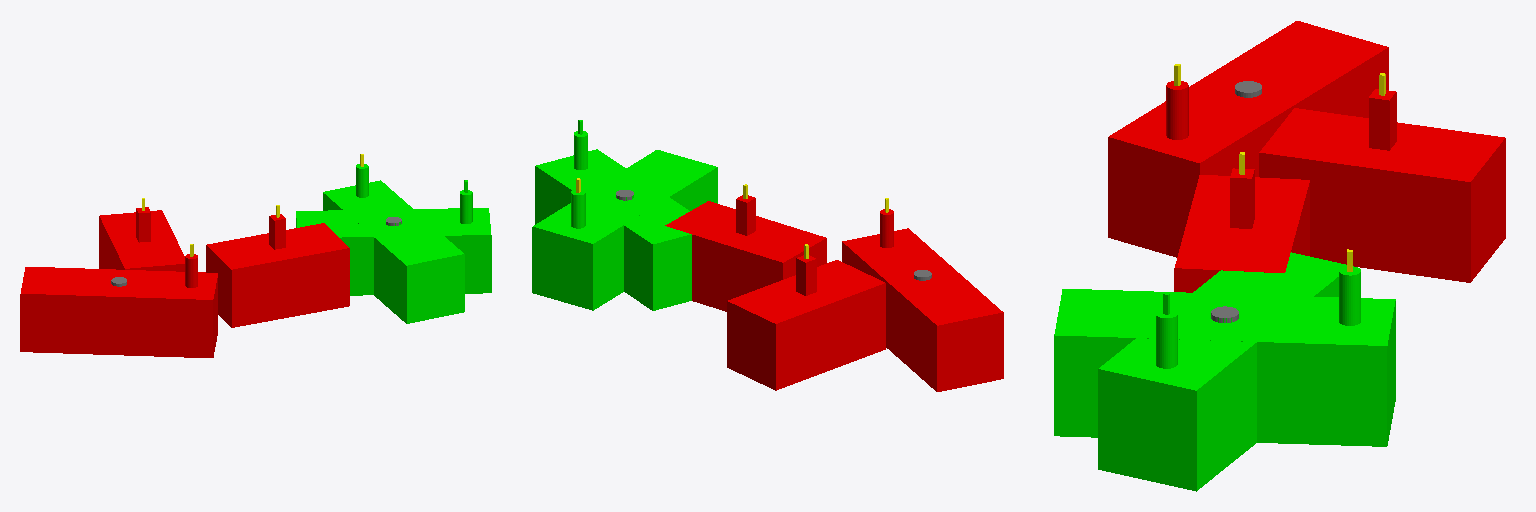
robot.urdf — continuous_space3:
<?xml version="1.0"?>
<!-- created with Phobos 1.0.1 "Capricious Choutengan" -->
  <robot name="continuous_space3">

    <link name="base_link">
    </link>

    <link name="goal">
      <visual name="visual_box_0_link_0.001">
        <origin xyz="0 0 0" rpy="0 0 0"/>
        <geometry>
          <box size="2.996 0.998 0.998"/>
        </geometry>
        <material name="green_translucent"/>
      </visual>
    </link>

    <link name="link_0_joint_0">
      <visual name="visual_box_0_link_0">
        <origin xyz="0 0 0" rpy="0 0 0"/>
        <geometry>
          <box size="2.999 0.999 0.999"/>
        </geometry>
        <material name="green"/>
      </visual>
      <collision name="collision_box_0_link_0">
        <origin xyz="0 0 0" rpy="0 0 0"/>
        <geometry>
          <box size="2.999 0.999 0.999"/>
        </geometry>
      </collision>
    </link>

    <link name="link_1_joint_0">
      <visual name="visual_box_11_link_1">
        <origin xyz="0 0 0" rpy="0 0 0"/>
        <geometry>
          <box size="1.999 0.999 0.999"/>
        </geometry>
        <material name="red"/>
      </visual>
      <collision name="collision_box_11_link_1">
        <origin xyz="0 0 0" rpy="0 0 0"/>
        <geometry>
          <box size="1.999 0.999 0.999"/>
        </geometry>
      </collision>
    </link>

    <link name="link_2_joint_0">
      <visual name="visual_box_33_link_2">
        <origin xyz="0 0 0" rpy="0 0 0"/>
        <geometry>
          <box size="2.999 0.999 0.999"/>
        </geometry>
        <material name="red"/>
      </visual>
      <collision name="collision_box_33_link_2">
        <origin xyz="0 0 0" rpy="0 0 0"/>
        <geometry>
          <box size="2.999 0.999 0.999"/>
        </geometry>
      </collision>
    </link>

    <link name="link_3_joint_0">
      <visual name="visual_box_52_link_3">
        <origin xyz="0 0 0" rpy="0 0 0"/>
        <geometry>
          <box size="1.999 0.999 0.999"/>
        </geometry>
        <material name="red"/>
      </visual>
      <collision name="collision_box_52_link_3">
        <origin xyz="0 0 0" rpy="0 0 0"/>
        <geometry>
          <box size="1.999 0.999 0.999"/>
        </geometry>
      </collision>
    </link>

    <link name="link_fixed_12_handle_shaft">
      <visual name="visual_box_fixed_12_handle_shaft">
        <origin xyz="0 0 0" rpy="0 0 0"/>
        <geometry>
          <box size="0.199 0.199 0.499"/>
        </geometry>
        <material name="red"/>
      </visual>
      <collision name="collision_box_fixed_12_handle_shaft">
        <origin xyz="0 0 0" rpy="0 0 0"/>
        <geometry>
          <box size="0.199 0.199 0.499"/>
        </geometry>
      </collision>
    </link>

    <link name="link_fixed_13_handle_knob">
      <visual name="visual_box_fixed_13_handle_knob">
        <origin xyz="0 0 0" rpy="0 0 0"/>
        <geometry>
          <box size="0.049 0.049 0.199"/>
        </geometry>
        <material name="yellow"/>
      </visual>
      <collision name="collision_box_fixed_13_handle_knob">
        <origin xyz="0 0 0" rpy="0 0 0"/>
        <geometry>
          <box size="0.049 0.049 0.199"/>
        </geometry>
      </collision>
    </link>

    <link name="link_fixed_1_hinge">
      <visual name="visual_cylinder_fixed_1_hinge">
        <origin xyz="0 0 0" rpy="0 0 0"/>
        <geometry>
          <cylinder radius="0.1245" length="1.099"/>
        </geometry>
        <material name="gray"/>
      </visual>
    </link>

    <link name="link_fixed_1_hinge.001">
      <visual name="visual_cylinder_fixed_1_hinge.001">
        <origin xyz="0 0 0" rpy="0 0 0"/>
        <geometry>
          <cylinder radius="0.12438" length="1.0979"/>
        </geometry>
        <material name="green_translucent"/>
      </visual>
    </link>

    <link name="link_fixed_2_handle_shaft">
      <visual name="visual_cylinder_fixed_2_handle_shaft">
        <origin xyz="0 0 0" rpy="0 0 0"/>
        <geometry>
          <cylinder radius="0.0995" length="0.499"/>
        </geometry>
        <material name="green"/>
      </visual>
      <collision name="collision_cylinder_fixed_2_handle_shaft">
        <origin xyz="0 0 0" rpy="0 0 0"/>
        <geometry>
          <cylinder radius="0.0995" length="0.499"/>
        </geometry>
      </collision>
    </link>

    <link name="link_fixed_2_handle_shaft.001">
      <visual name="visual_cylinder_fixed_2_handle_shaft.001">
        <origin xyz="0 0 0" rpy="0 0 0"/>
        <geometry>
          <cylinder radius="0.0994" length="0.4985"/>
        </geometry>
        <material name="green_translucent"/>
      </visual>
    </link>

    <link name="link_fixed_34_hinge">
      <visual name="visual_cylinder_fixed_34_hinge">
        <origin xyz="0 0 0" rpy="0 0 0"/>
        <geometry>
          <cylinder radius="0.1245" length="1.099"/>
        </geometry>
        <material name="gray"/>
      </visual>
    </link>

    <link name="link_fixed_35_handle_shaft">
      <visual name="visual_cylinder_fixed_35_handle_shaft">
        <origin xyz="0 0 0" rpy="0 0 0"/>
        <geometry>
          <cylinder radius="0.0995" length="0.499"/>
        </geometry>
        <material name="red"/>
      </visual>
      <collision name="collision_cylinder_fixed_35_handle_shaft">
        <origin xyz="0 0 0" rpy="0 0 0"/>
        <geometry>
          <cylinder radius="0.0995" length="0.499"/>
        </geometry>
      </collision>
    </link>

    <link name="link_fixed_36_handle_knob">
      <visual name="visual_box_fixed_36_handle_knob">
        <origin xyz="0 0 0" rpy="0 0 0"/>
        <geometry>
          <box size="0.049 0.049 0.199"/>
        </geometry>
        <material name="yellow"/>
      </visual>
      <collision name="collision_box_fixed_36_handle_knob">
        <origin xyz="0 0 0" rpy="0 0 0"/>
        <geometry>
          <box size="0.049 0.049 0.199"/>
        </geometry>
      </collision>
    </link>

    <link name="link_fixed_3_handle_knob">
      <visual name="visual_box_fixed_3_handle_knob">
        <origin xyz="0 0 0" rpy="0 0 0"/>
        <geometry>
          <box size="0.049 0.049 0.199"/>
        </geometry>
        <material name="yellow"/>
      </visual>
      <collision name="collision_box_fixed_3_handle_knob">
        <origin xyz="0 0 0" rpy="0 0 0"/>
        <geometry>
          <box size="0.049 0.049 0.199"/>
        </geometry>
      </collision>
    </link>

    <link name="link_fixed_3_handle_knob.001">
      <visual name="visual_box_fixed_3_handle_knob.001">
        <origin xyz="0 0 0" rpy="0 0 0"/>
        <geometry>
          <box size="0.04895 0.04895 0.1988"/>
        </geometry>
        <material name="green_translucent"/>
      </visual>
    </link>

    <link name="link_fixed_53_handle_shaft">
      <visual name="visual_box_fixed_53_handle_shaft">
        <origin xyz="0 0 0" rpy="0 0 0"/>
        <geometry>
          <box size="0.199 0.199 0.499"/>
        </geometry>
        <material name="red"/>
      </visual>
      <collision name="collision_box_fixed_53_handle_shaft">
        <origin xyz="0 0 0" rpy="0 0 0"/>
        <geometry>
          <box size="0.199 0.199 0.499"/>
        </geometry>
      </collision>
    </link>

    <link name="link_fixed_54_handle_knob">
      <visual name="visual_box_fixed_54_handle_knob">
        <origin xyz="0 0 0" rpy="0 0 0"/>
        <geometry>
          <box size="0.049 0.049 0.199"/>
        </geometry>
        <material name="yellow"/>
      </visual>
      <collision name="collision_box_fixed_54_handle_knob">
        <origin xyz="0 0 0" rpy="0 0 0"/>
        <geometry>
          <box size="0.049 0.049 0.199"/>
        </geometry>
      </collision>
    </link>

    <joint name="goal" type="fixed">
      <origin xyz="0 0 0.5" rpy="0 0 -0.48417"/>
      <parent link="base_link"/>
      <child link="goal"/>
      <limit effort="0" velocity="0"/>
    </joint>

    <joint name="link_0_joint_0" type="revolute">
      <origin xyz="0 0 0.5" rpy="0 0 1.49518"/>
      <parent link="base_link"/>
      <child link="link_0_joint_0"/>
      <axis xyz="0 0 1.0"/>
      <limit lower="-1.97935" upper="0" effort="0" velocity="0"/>
    </joint>

    <joint name="link_1_joint_0" type="prismatic">
      <origin xyz="-1.98205 0.15568 0.5" rpy="0 0 3.02801"/>
      <parent link="base_link"/>
      <child link="link_1_joint_0"/>
      <axis xyz="1.0 0 0"/>
      <limit lower="0" upper="3.85167" effort="0" velocity="0"/>
    </joint>

    <joint name="link_2_joint_0" type="revolute">
      <origin xyz="-4.78672 0.21003 0.5" rpy="0 0 -0.60192"/>
      <parent link="base_link"/>
      <child link="link_2_joint_0"/>
      <axis xyz="0 0 1.0"/>
      <limit lower="0" upper="2.91837" effort="0" velocity="0"/>
    </joint>

    <joint name="link_3_joint_0" type="prismatic">
      <origin xyz="-3.65905 1.4137 0.5" rpy="0 0 1.2497"/>
      <parent link="base_link"/>
      <child link="link_3_joint_0"/>
      <axis xyz="1.0 0 0"/>
      <limit lower="0" upper="2.58322" effort="0" velocity="0"/>
    </joint>

    <joint name="link_fixed_12_handle_shaft" type="fixed">
      <origin xyz="0 0 0.75" rpy="0 0 0"/>
      <parent link="link_1_joint_0"/>
      <child link="link_fixed_12_handle_shaft"/>
    </joint>

    <joint name="link_fixed_13_handle_knob" type="fixed">
      <origin xyz="0 0 0.35" rpy="0 0 0"/>
      <parent link="link_fixed_12_handle_shaft"/>
      <child link="link_fixed_13_handle_knob"/>
    </joint>

    <joint name="link_fixed_1_hinge" type="fixed">
      <origin xyz="0 0 0" rpy="0 0 0"/>
      <parent link="link_0_joint_0"/>
      <child link="link_fixed_1_hinge"/>
    </joint>

    <joint name="link_fixed_1_hinge.001" type="fixed">
      <origin xyz="0 0 0" rpy="0 0 0"/>
      <parent link="goal"/>
      <child link="link_fixed_1_hinge.001"/>
    </joint>

    <joint name="link_fixed_2_handle_shaft" type="fixed">
      <origin xyz="1.125 0 0.75" rpy="0 0 0"/>
      <parent link="link_0_joint_0"/>
      <child link="link_fixed_2_handle_shaft"/>
    </joint>

    <joint name="link_fixed_2_handle_shaft.001" type="fixed">
      <origin xyz="1.12388 0 0.74925" rpy="0 0 0"/>
      <parent link="goal"/>
      <child link="link_fixed_2_handle_shaft.001"/>
    </joint>

    <joint name="link_fixed_34_hinge" type="fixed">
      <origin xyz="0 0 0" rpy="0 0 0"/>
      <parent link="link_2_joint_0"/>
      <child link="link_fixed_34_hinge"/>
    </joint>

    <joint name="link_fixed_35_handle_shaft" type="fixed">
      <origin xyz="1.125 0 0.75" rpy="0 0 0"/>
      <parent link="link_2_joint_0"/>
      <child link="link_fixed_35_handle_shaft"/>
    </joint>

    <joint name="link_fixed_36_handle_knob" type="fixed">
      <origin xyz="0 0 0.35" rpy="0 0 0"/>
      <parent link="link_fixed_35_handle_shaft"/>
      <child link="link_fixed_36_handle_knob"/>
    </joint>

    <joint name="link_fixed_3_handle_knob" type="fixed">
      <origin xyz="0 0 0.35" rpy="0 0 0"/>
      <parent link="link_fixed_2_handle_shaft"/>
      <child link="link_fixed_3_handle_knob"/>
    </joint>

    <joint name="link_fixed_3_handle_knob.001" type="fixed">
      <origin xyz="0 0 0.34965" rpy="0 0 0"/>
      <parent link="link_fixed_2_handle_shaft.001"/>
      <child link="link_fixed_3_handle_knob.001"/>
    </joint>

    <joint name="link_fixed_53_handle_shaft" type="fixed">
      <origin xyz="0 0 0.75" rpy="0 0 0"/>
      <parent link="link_3_joint_0"/>
      <child link="link_fixed_53_handle_shaft"/>
    </joint>

    <joint name="link_fixed_54_handle_knob" type="fixed">
      <origin xyz="0 0 0.35" rpy="0 0 0"/>
      <parent link="link_fixed_53_handle_shaft"/>
      <child link="link_fixed_54_handle_knob"/>
    </joint>

    <material name="gray">
      <color rgba="0.5 0.5 0.5 1.0"/>
    </material>

    <material name="green">
      <color rgba="0 1.0 0 1.0"/>
    </material>

    <material name="green_translucent">
      <color rgba="0 1.0 0 0.25"/>
    </material>

    <material name="red">
      <color rgba="1.0 0 0 1.0"/>
    </material>

    <material name="yellow">
      <color rgba="1.0 1.0 0 1.0"/>
    </material>

  </robot>

--- Render facts (derived) ---
Views: 3 orthographic renders of the robot side by side, from view 1: azimuth 30°, elevation 25°; view 2: azimuth 150°, elevation 25°; view 3: azimuth 270°, elevation 25°.
Model continuous_space3 with 19 links and 18 joints (2 revolute, 2 prismatic, 14 fixed), rooted at base_link, posed every joint at zero.
Links seen in each view (by area): view 1: link_2_joint_0, link_1_joint_0, link_0_joint_0, goal, link_3_joint_0, link_fixed_12_handle_shaft; view 2: link_2_joint_0, link_3_joint_0, link_0_joint_0, goal, link_1_joint_0, link_fixed_53_handle_shaft, link_fixed_12_handle_shaft, link_fixed_2_handle_shaft; view 3: link_0_joint_0, link_3_joint_0, link_2_joint_0, goal, link_1_joint_0, link_fixed_53_handle_shaft, link_fixed_12_handle_shaft, link_fixed_35_handle_shaft, link_fixed_2_handle_shaft, link_fixed_2_handle_shaft.001.
Boxes of the visible links, x1,y1,x2,y2 form: link_2_joint_0: (20,267,217,357); link_1_joint_0: (206,223,349,327); link_0_joint_0: (323,180,464,323); goal: (296,208,491,295); link_3_joint_0: (99,210,184,271); link_fixed_12_handle_shaft: (269,214,285,249); link_2_joint_0: (842,228,1003,391); link_3_joint_0: (727,260,885,390); link_0_joint_0: (532,150,717,310); goal: (535,149,691,310); link_1_joint_0: (665,201,826,311); link_fixed_53_handle_shaft: (796,255,816,295); link_fixed_12_handle_shaft: (736,195,755,235); link_fixed_2_handle_shaft: (571,190,585,228); link_0_joint_0: (1054,289,1395,446); link_3_joint_0: (1259,108,1505,282); link_2_joint_0: (1108,21,1388,257); goal: (1098,252,1346,491); link_1_joint_0: (1174,175,1309,292); link_fixed_53_handle_shaft: (1369,89,1396,150); link_fixed_12_handle_shaft: (1230,168,1254,228); link_fixed_35_handle_shaft: (1166,81,1188,139); link_fixed_2_handle_shaft: (1339,266,1360,325); link_fixed_2_handle_shaft.001: (1156,309,1177,368).
Bounding box of the posed robot: 7.86 × 4.05 × 1.75 m (x, y, z).
Geometry: primitives only (box / cylinder / sphere), no mesh files.